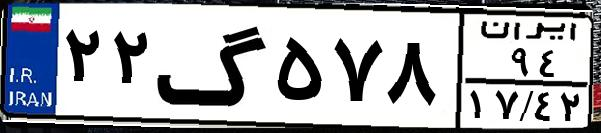1: (470, 70, 495, 125)
2: (57, 26, 110, 100), (110, 28, 156, 98), (560, 70, 590, 125)
4: (537, 27, 568, 80), (535, 70, 560, 125)
5: (270, 28, 330, 110)
7: (330, 28, 385, 110), (495, 70, 520, 125)
8: (385, 28, 445, 110)
9: (508, 27, 537, 80)
گ: (156, 12, 270, 120)
